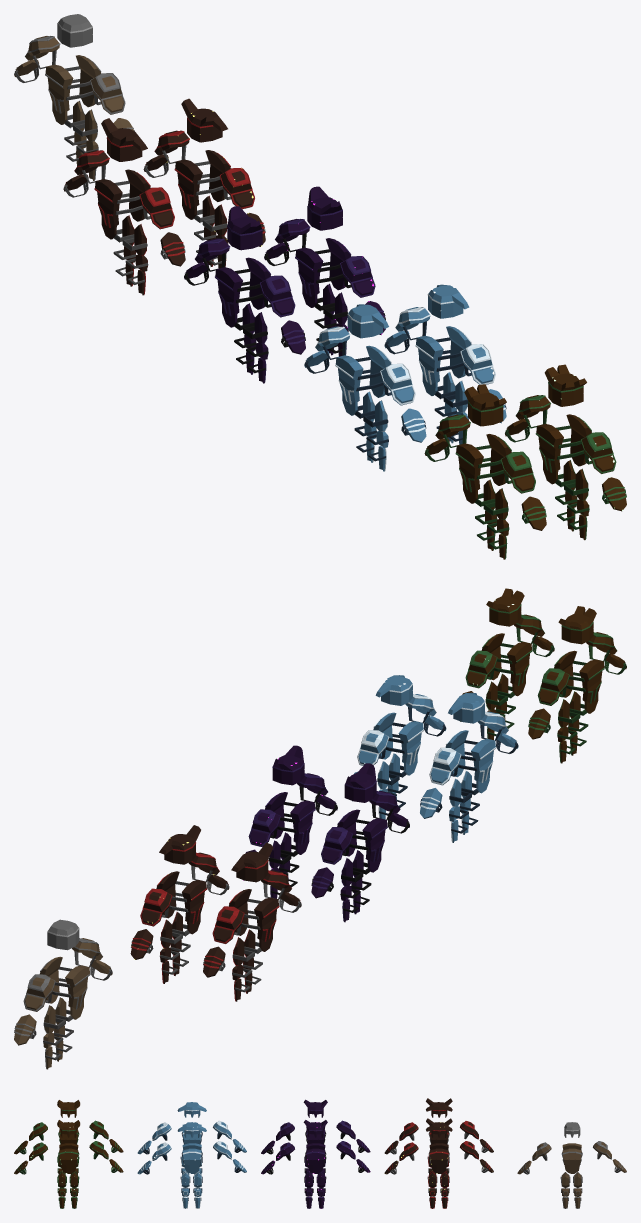
The model's file is EmbersStorm Magic Fantazy Armors Pack.fbx.
3 views of the same model, one above another, from view 1: azimuth 30°, elevation 25°; view 2: azimuth 150°, elevation 25°; view 3: azimuth 270°, elevation 25° (orthographic). The views are drawn at different scales.
Parts seen in each view (by area): view 1: Chest (Ice - Plain), Chest (Ice), Chest (Fire - Plain), Chest (Shadow - Plain), Chest (Forest), Chest (Shadow), Chest (Natural), Chest (Forest - Plain), Chest (Fire), Helmet (Forest), Helmet (Forest - Plain), Helmet (Fire) (+15 smaller); view 2: Chest (Forest - Plain), Chest (Natural), Chest (Shadow - Plain), Chest (Shadow), Chest (Ice - Plain), Chest (Ice), Chest (Fire - Plain), Chest (Forest), Chest (Fire), Helmet (Forest), Helmet (Forest - Plain), Helmet (Fire - Plain) (+15 smaller); view 3: Chest (Fire), Chest (Shadow), Chest (Forest), Chest (Natural), Chest (Ice), Helmet (Fire), Helmet (Fire - Plain), Helmet (Forest), Helmet (Forest - Plain), Helmet (Shadow), Helmet (Ice - Plain), Helmet (Ice) (+24 smaller).
Part boxes in pixels (<box>): Chest (Ice - Plain): <box>335,345,391,415</box>; Chest (Ice): <box>415,326,471,395</box>; Chest (Fire - Plain): <box>94,169,150,239</box>; Chest (Shadow - Plain): <box>215,257,270,327</box>; Chest (Forest): <box>535,414,591,484</box>; Chest (Shadow): <box>295,238,351,307</box>; Chest (Natural): <box>45,55,101,124</box>; Chest (Forest - Plain): <box>455,434,511,503</box>; Chest (Fire): <box>174,150,230,219</box>; Helmet (Forest): <box>544,364,586,406</box>; Helmet (Forest - Plain): <box>464,384,506,426</box>; Helmet (Fire): <box>181,98,227,142</box>; Chest (Forest - Plain): <box>554,650,604,713</box>; Chest (Natural): <box>40,956,90,1019</box>; Chest (Shadow - Plain): <box>337,809,387,872</box>; Chest (Shadow): <box>265,792,315,854</box>; Chest (Ice - Plain): <box>445,730,496,793</box>; Chest (Ice): <box>373,712,423,775</box>; Chest (Fire - Plain): <box>228,889,279,951</box>; Chest (Forest): <box>481,633,532,696</box>; Chest (Fire): <box>156,871,207,934</box>; Helmet (Forest): <box>486,588,524,626</box>; Helmet (Forest - Plain): <box>558,606,596,644</box>; Helmet (Fire - Plain): <box>231,842,273,882</box>; Chest (Fire): <box>428,1143,449,1173</box>; Chest (Shadow): <box>305,1143,326,1173</box>; Chest (Forest): <box>58,1143,79,1173</box>; Chest (Natural): <box>561,1143,582,1173</box>; Chest (Ice): <box>181,1143,202,1173</box>; Helmet (Fire): <box>426,1118,452,1137</box>; Helmet (Fire - Plain): <box>426,1098,452,1117</box>; Helmet (Forest): <box>57,1120,80,1137</box>; Helmet (Forest - Plain): <box>57,1100,80,1117</box>; Helmet (Shadow): <box>303,1120,327,1137</box>; Helmet (Ice - Plain): <box>177,1102,206,1117</box>; Helmet (Ice): <box>177,1122,206,1137</box>.
Bounding box in the file's own units: 1.53 × 2 × 13.04.
